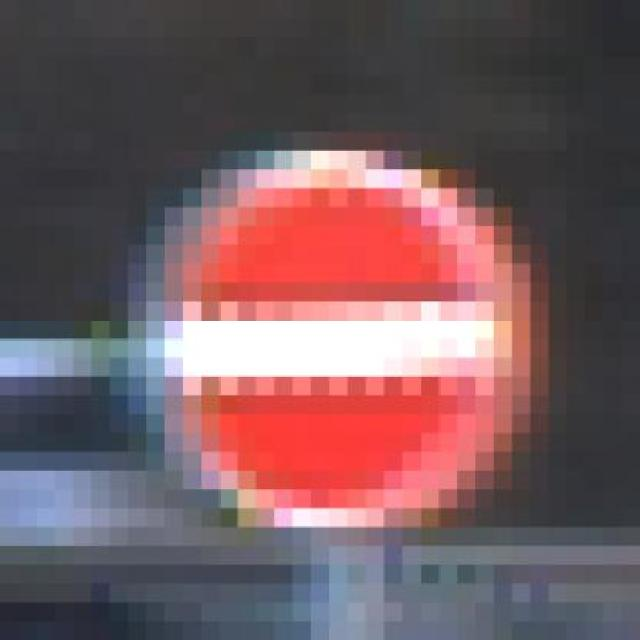No Entry: (73, 94, 549, 546)
